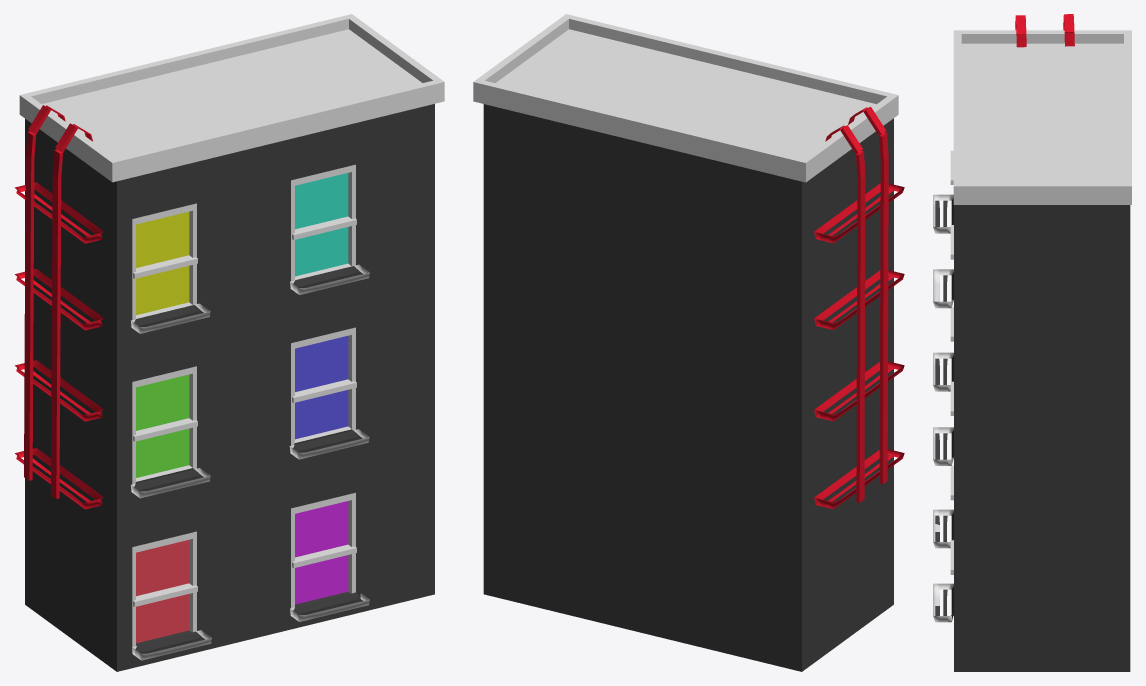
File: Apartment01_kw.fbx
The picture shows the model from 3 angles, left to right: view 1: azimuth 30°, elevation 25°; view 2: azimuth 150°, elevation 25°; view 3: azimuth 270°, elevation 25°; orthographic projection. The views are drawn at different scales.
Parts seen in each view (by area): view 1: apartment01; view 2: apartment01; view 3: apartment01.
Boxes of the visible parts, box(x1,y1,x2,y2) form: apartment01: box(14, 14, 444, 671); apartment01: box(473, 14, 904, 671); apartment01: box(933, 14, 1131, 671).
Bounding box in the file's own units: 8.03 × 11.27 × 4.03.
